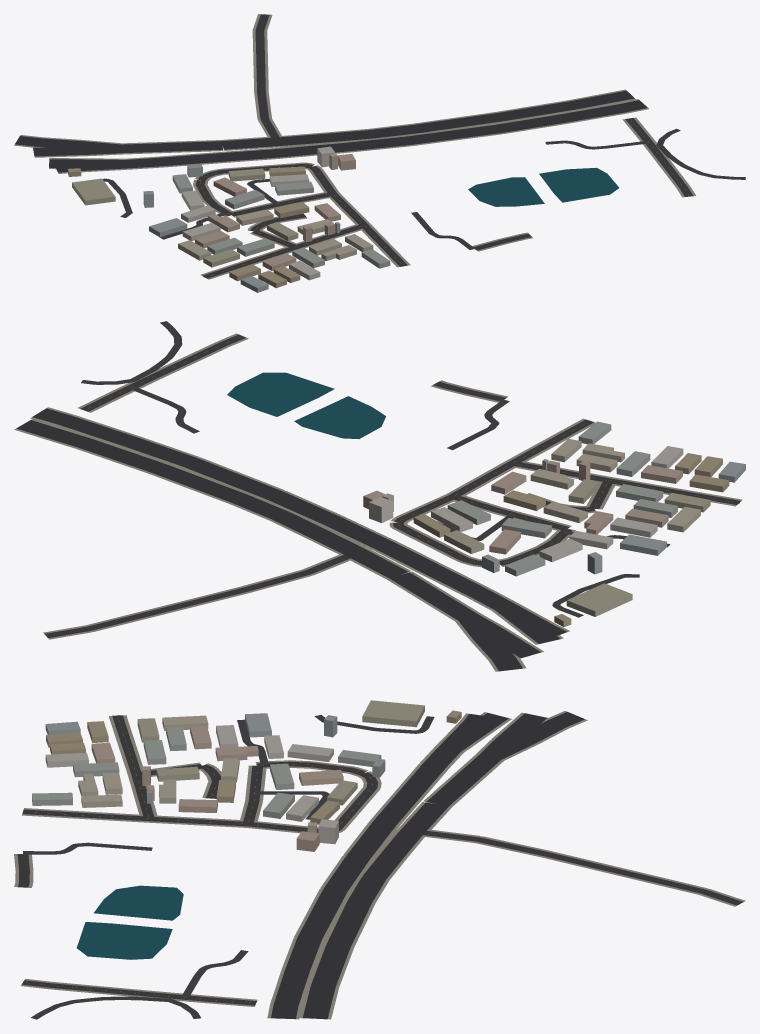
The picture shows the model from 3 angles, top to bottom: view 1: azimuth 30°, elevation 25°; view 2: azimuth 150°, elevation 25°; view 3: azimuth 270°, elevation 25°; orthographic projection. The views are drawn at different scales.
Visible parts, largest first — view 1: tile_1_-2; view 2: tile_1_-2; view 3: tile_1_-2.
Boxes of the visible parts, x1,y1,x2,y2 form: tile_1_-2: [14, 14, 745, 292]; tile_1_-2: [14, 321, 745, 671]; tile_1_-2: [14, 700, 745, 1019].
Bounding box in the file's own units: 414 × 10 × 408.
